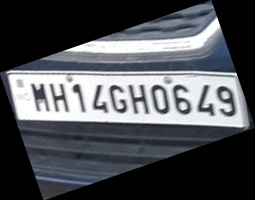character: (128, 84, 149, 115), (48, 83, 69, 112), (171, 83, 190, 114), (216, 85, 235, 116), (150, 84, 169, 114), (108, 84, 127, 113), (198, 84, 215, 116), (30, 83, 49, 111), (71, 83, 86, 114), (92, 84, 108, 113)
